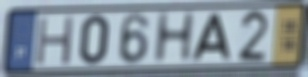0: (77, 14, 112, 67)
2: (237, 8, 271, 65)
6: (118, 11, 153, 67)
A: (190, 13, 234, 63)
H: (150, 10, 198, 66), (33, 13, 77, 68)
